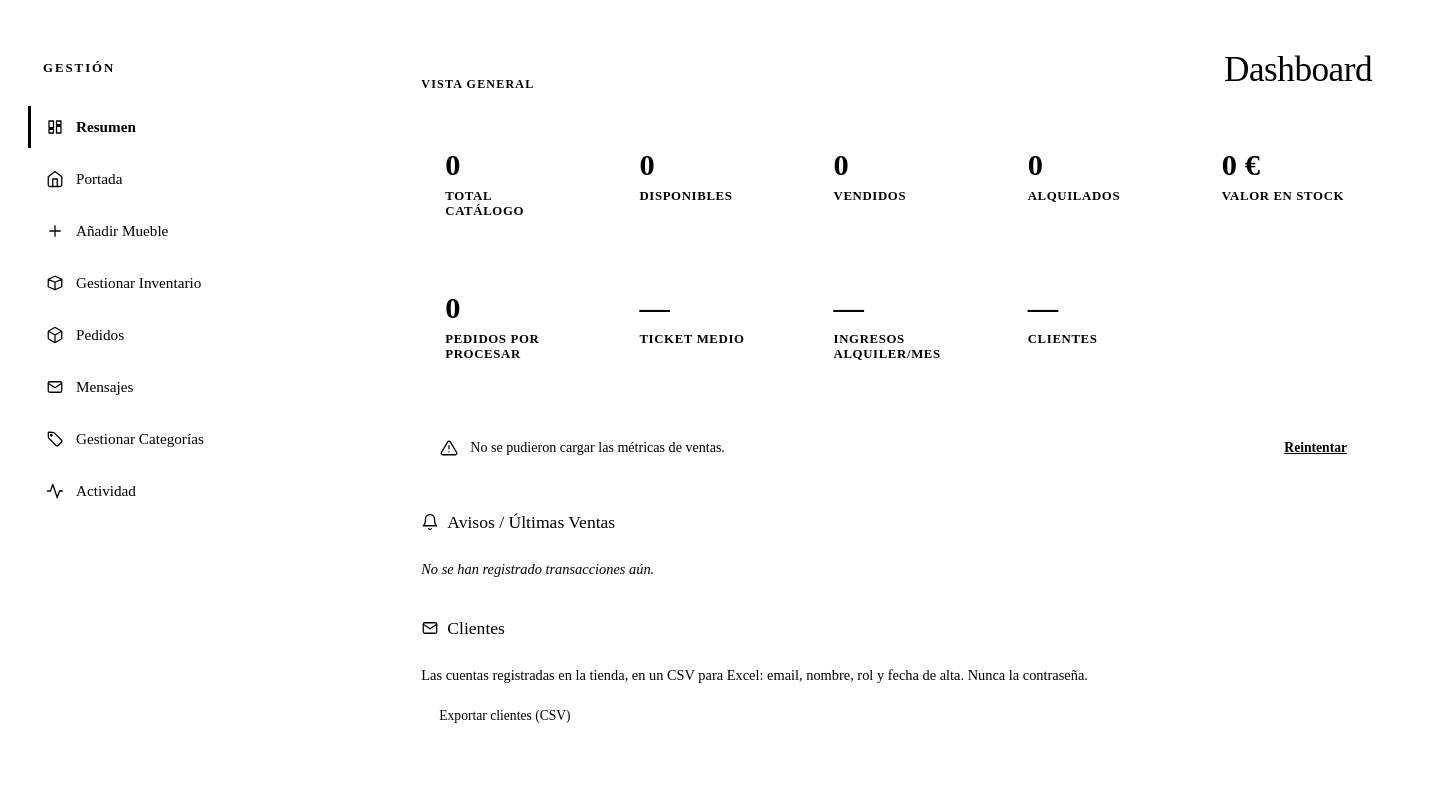
Test: Inventario — listado › sin productos, "0 de 0" y el mensaje de que nada coincide
Click the button "Gestionar Inventario" at (185, 283), box x1=28 y1=262 x2=341 y2=304
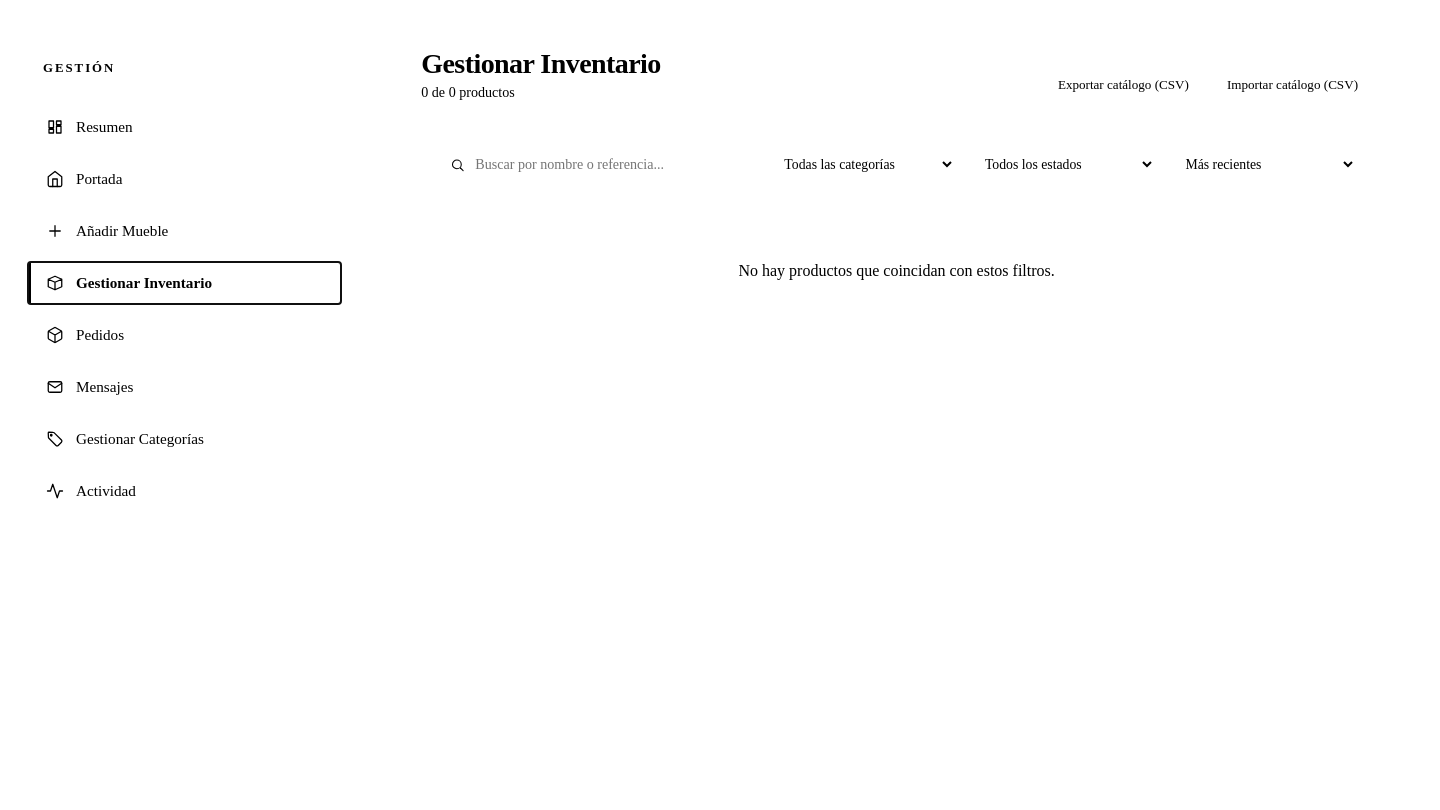
Check: the text "0 de 0 productos" is shown, box x1=421 y1=84 x2=515 y2=100
Check: the text "No hay productos que coincidan con estos filtros." is shown, box x1=738 y1=262 x2=1055 y2=279
